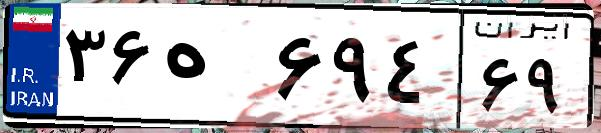3: (57, 26, 110, 100)
4: (385, 28, 445, 110)
6: (270, 28, 330, 110), (475, 38, 525, 113), (110, 28, 158, 98)
9: (330, 28, 385, 110), (525, 38, 570, 115)
ه: (158, 20, 270, 120)
